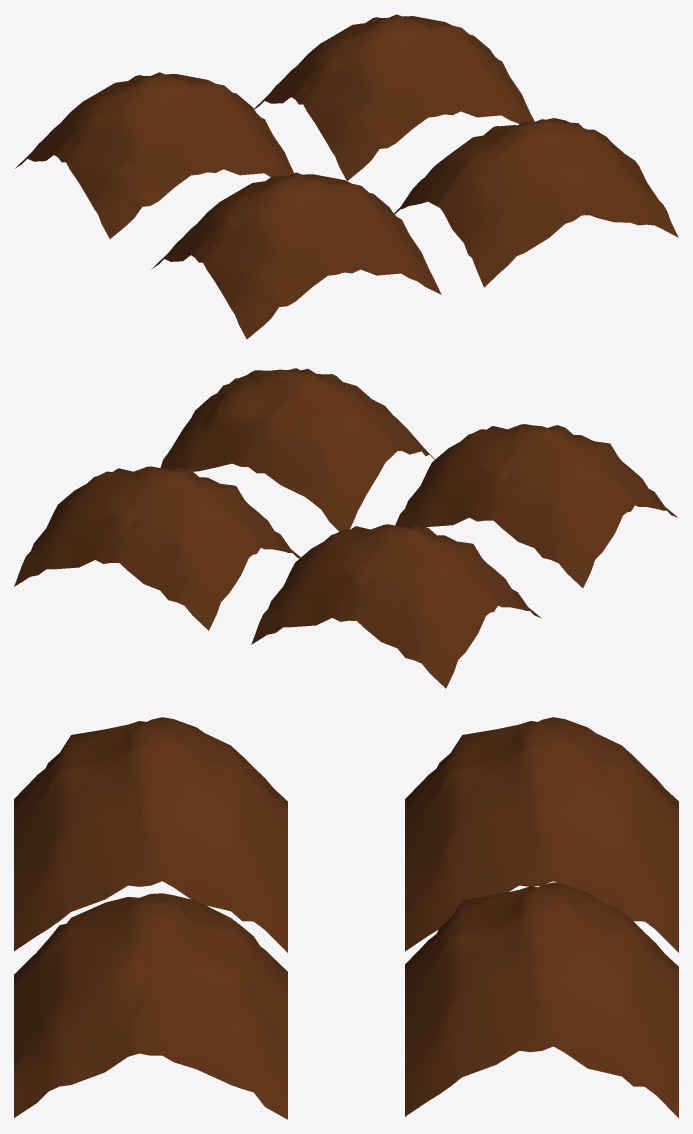
The model's file is mesh_dirtmounds.fbx.
The picture shows the model from 3 angles, top to bottom: view 1: azimuth 30°, elevation 25°; view 2: azimuth 150°, elevation 25°; view 3: azimuth 270°, elevation 25°; orthographic projection. The views are drawn at different scales.
Visible parts, largest first — view 1: mesh_dirtmounds; view 2: mesh_dirtmounds; view 3: mesh_dirtmounds.
Boxes of the visible parts, x1=… form: mesh_dirtmounds: x1=15, y1=14, x2=678, y2=339; mesh_dirtmounds: x1=14, y1=368, x2=678, y2=688; mesh_dirtmounds: x1=14, y1=717, x2=678, y2=1119.
Bounding box in the file's own units: 1.82 × 0.4407 × 1.7.
